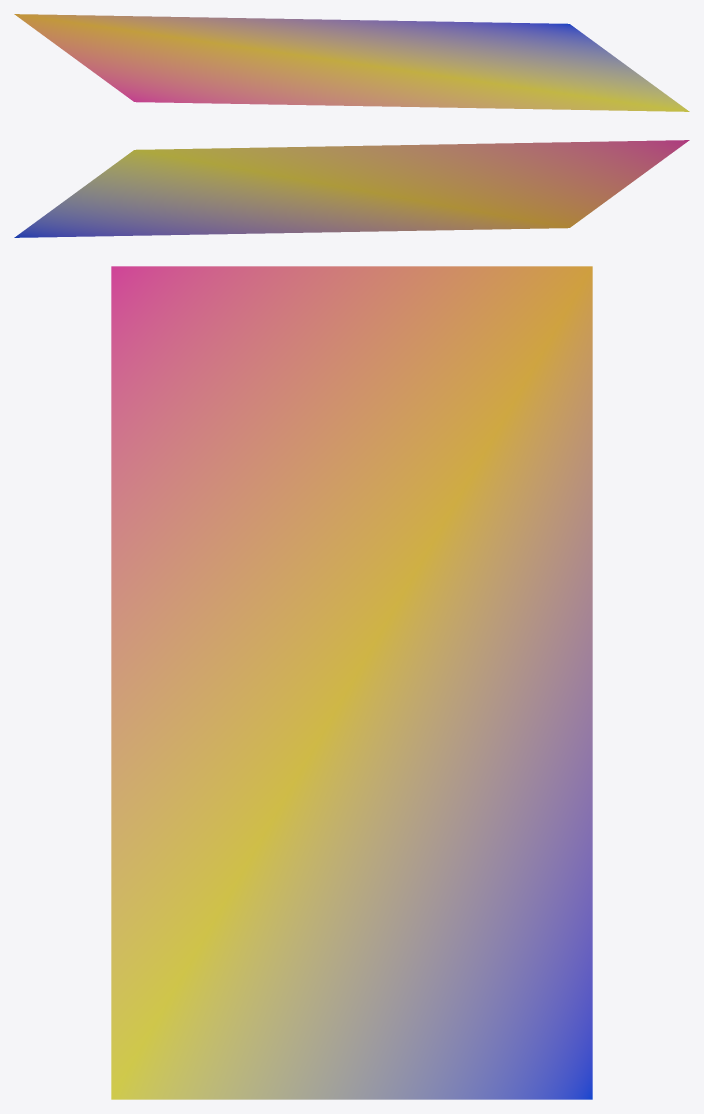
File: gps_04.glb
3 views of the same model, one above another, from view 1: azimuth 30°, elevation 25°; view 2: azimuth 150°, elevation 25°; view 3: azimuth 270°, elevation 25° (orthographic). The views are drawn at different scales.
Visible parts, largest first — view 1: gps3.002; view 2: gps3.002; view 3: gps3.002.
Boxes of the visible parts, x1,y1,x2,y2 form: gps3.002: (14,14,689,111); gps3.002: (14,140,689,237); gps3.002: (111,266,592,1099).
Size of the model in its own units: 2 by 0.5 by 0.75.
